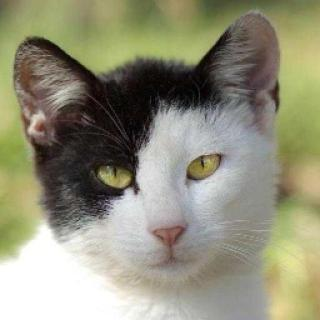cat: (10, 26, 303, 294)
nose: (146, 215, 192, 249)
